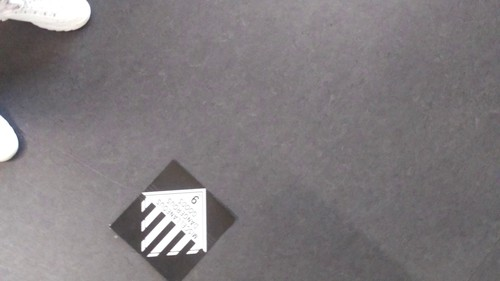misgoods: (132, 190, 224, 255)
